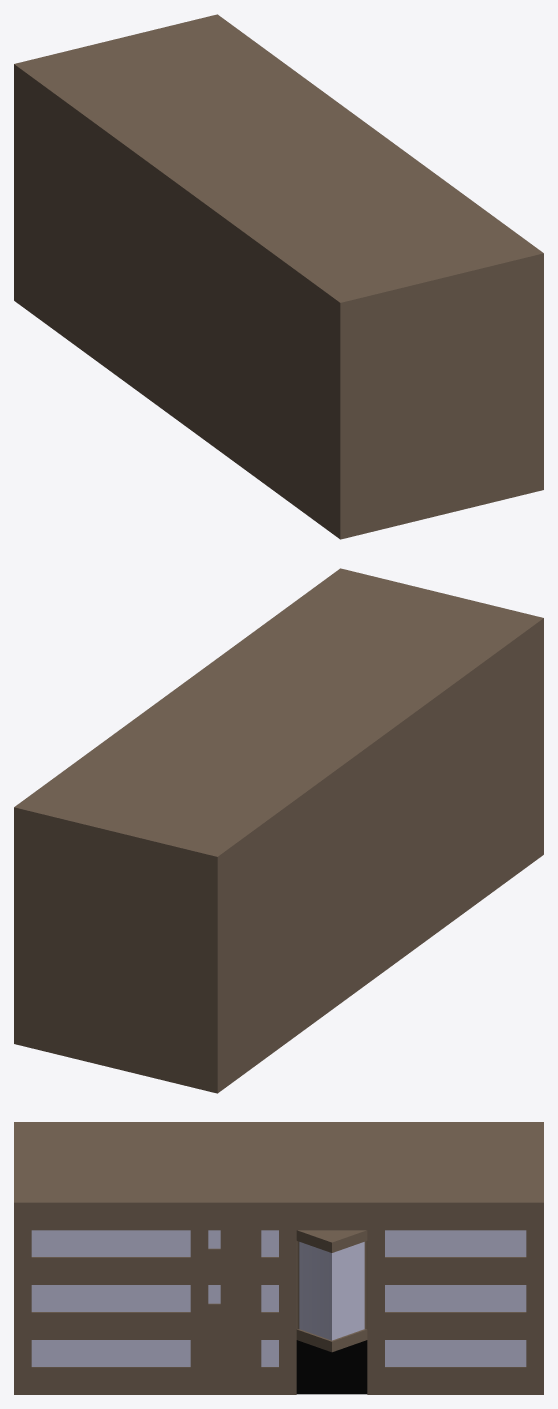
The model's file is edF.fbx.
3 renders of one model, top to bottom at view 1: azimuth 30°, elevation 25°; view 2: azimuth 150°, elevation 25°; view 3: azimuth 270°, elevation 25°, orthographic. The views are drawn at different scales.
Parts seen in each view (by area): view 1: EdF:pCube1; view 2: EdF:pCube1; view 3: EdF:pCube1.
Boxes of the visible parts, bbox=[...] form: EdF:pCube1: bbox=[14, 14, 543, 539]; EdF:pCube1: bbox=[14, 568, 543, 1093]; EdF:pCube1: bbox=[14, 1122, 543, 1394].
Size of the model in its own units: 10.3 by 9.92 by 24.8.
